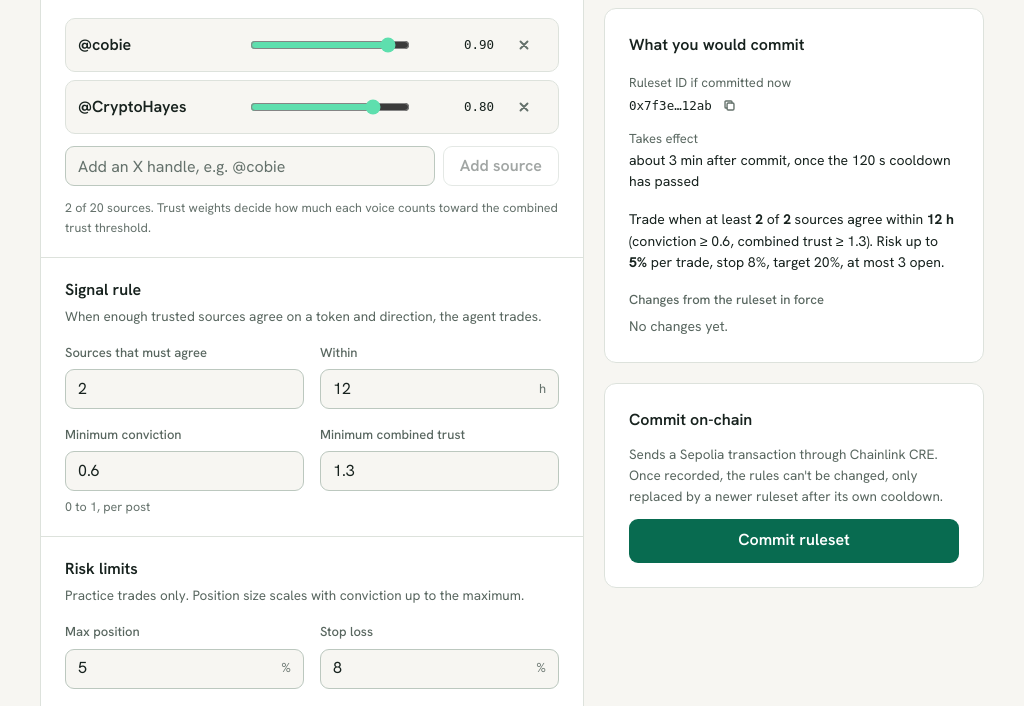
it: Compose › starts from the ruleset in force and previews the hash and changes
(page scrolled)
Check: the text "@cobie" is shown, box [78, 34, 131, 55]
Check: the text "No changes yet." is shown, box [629, 317, 728, 335]
Replace the text in the number field labelled "Sources that must agree" with "3". click: [184, 389]
box: [78, 376, 291, 401]
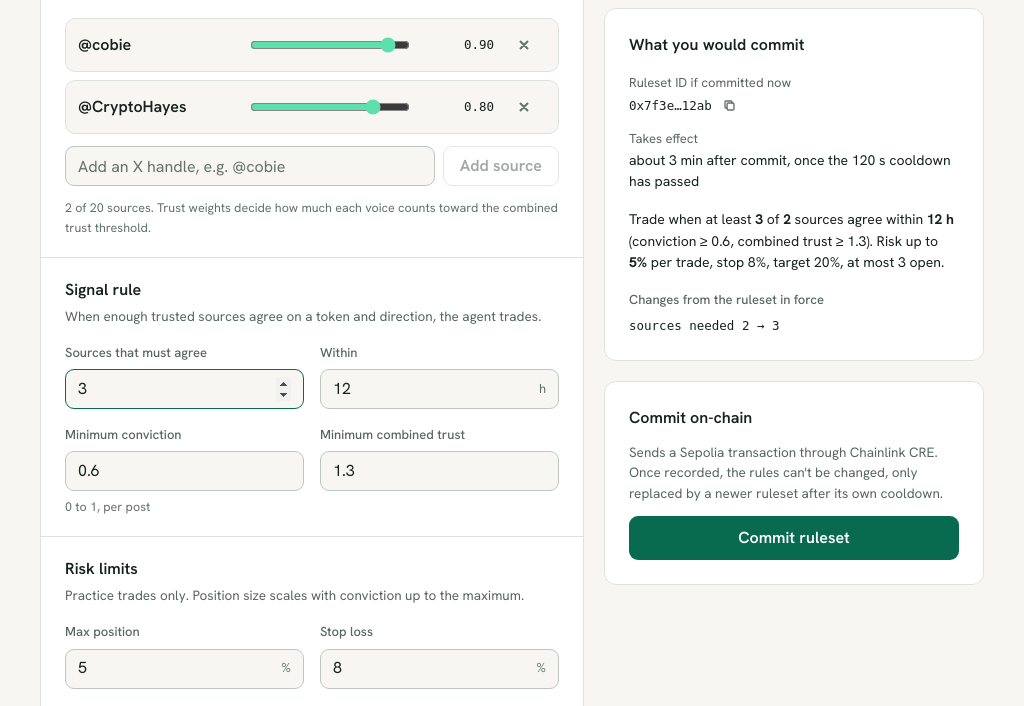
Type "@inversebrah" into the field labelled "Add an X handle". click: [250, 166]
box: [65, 146, 435, 186]
Then press Enter
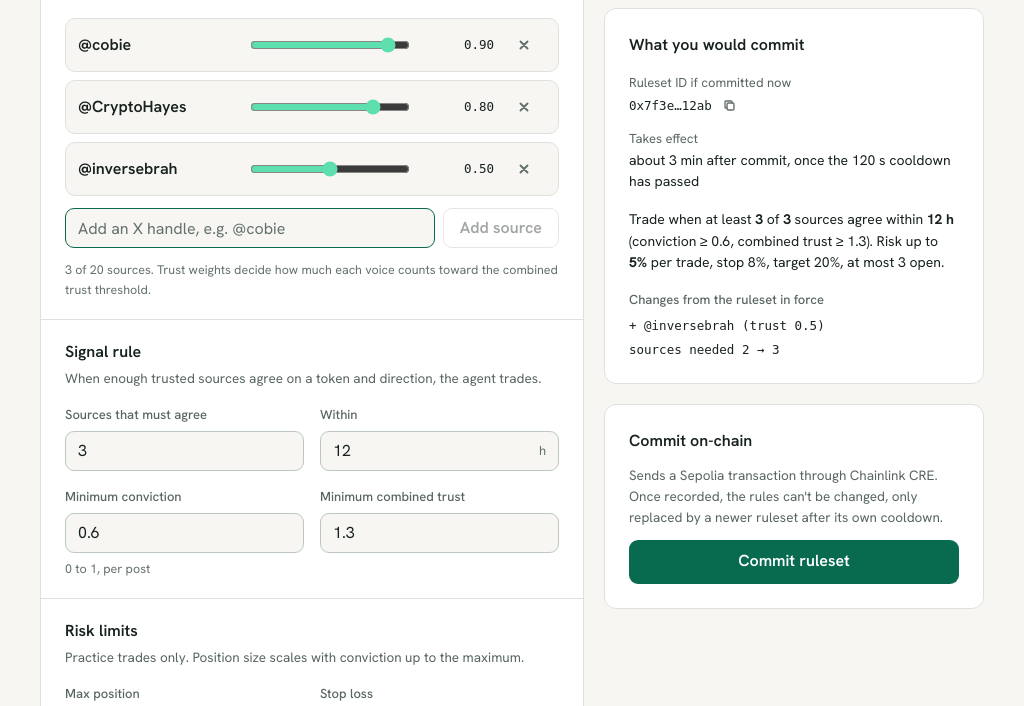
Check: the list item "sources needed 2 → 3" is shown, box [629, 341, 780, 356]
Check: the list item "+ @inversebrah (trust 0.5)" is shown, box [629, 318, 825, 333]
